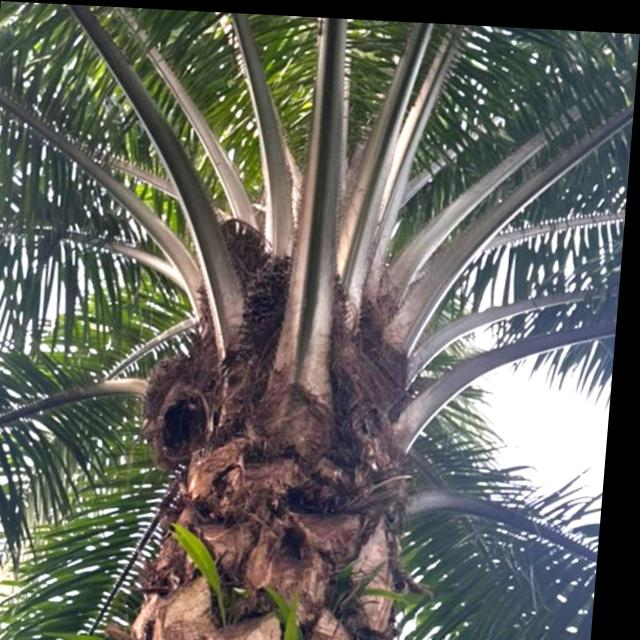almost: (242, 246, 357, 371)
